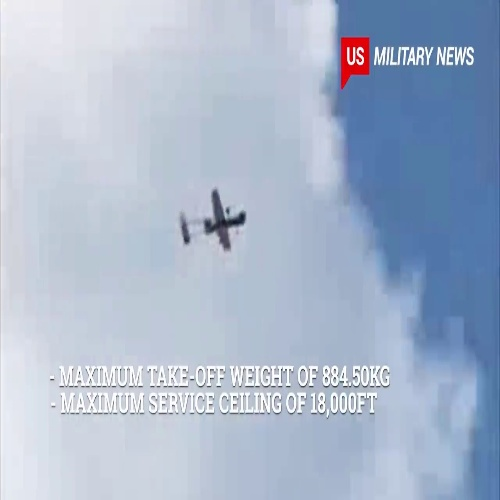uav: (177, 184, 250, 258)
